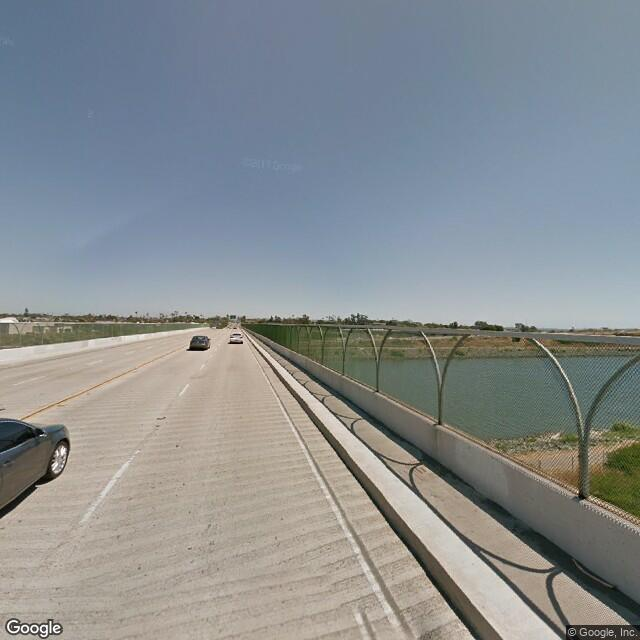litter: (571, 561, 616, 591)
